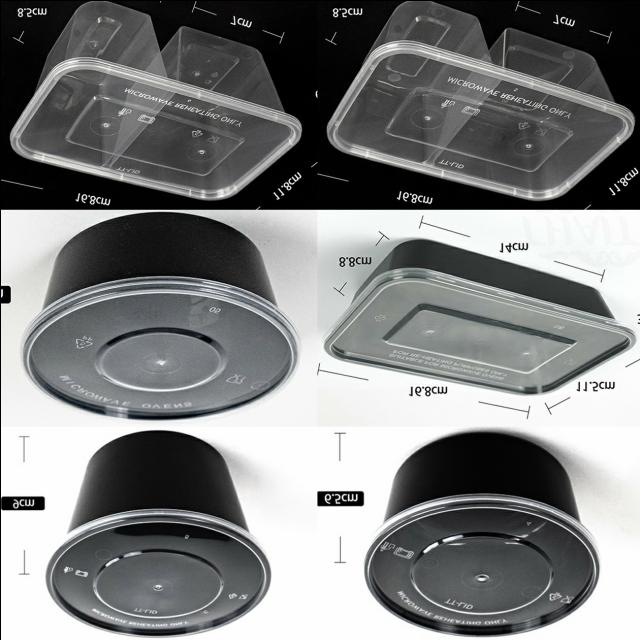plastik: (326, 0, 633, 199), (9, 0, 300, 199), (21, 212, 299, 419), (323, 240, 634, 393), (364, 433, 598, 635), (45, 430, 270, 636)
